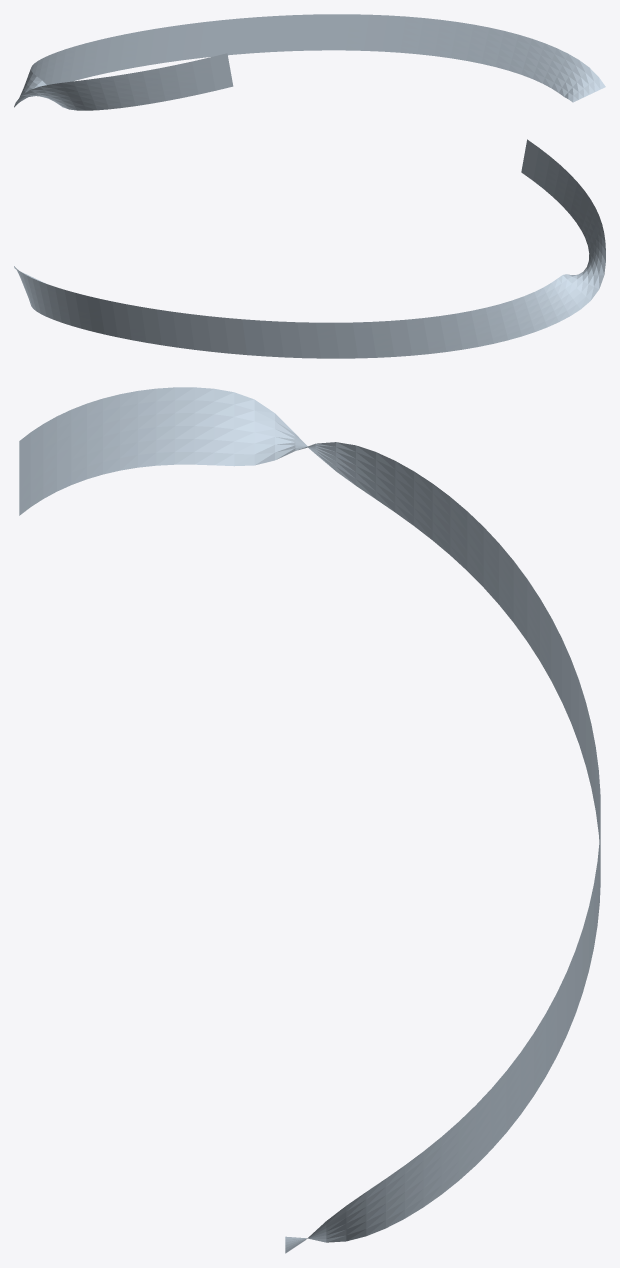
File: Xiao_BaneOfAllEvilState_AuraWindBand.fbx
3 renders of one model, top to bottom at view 1: azimuth 30°, elevation 25°; view 2: azimuth 150°, elevation 25°; view 3: azimuth 270°, elevation 25°, orthographic. The views are drawn at different scales.
Parts seen in each view (by area): view 1: PART_XiaoTwistingWindBand; view 2: PART_XiaoTwistingWindBand; view 3: PART_XiaoTwistingWindBand.
Boxes of the visible parts, bbox=[...] form: PART_XiaoTwistingWindBand: bbox=[14, 14, 605, 110]; PART_XiaoTwistingWindBand: bbox=[14, 139, 605, 358]; PART_XiaoTwistingWindBand: bbox=[19, 387, 600, 1253].
Bounding box in the file's own units: 244 × 79.79 × 105.
